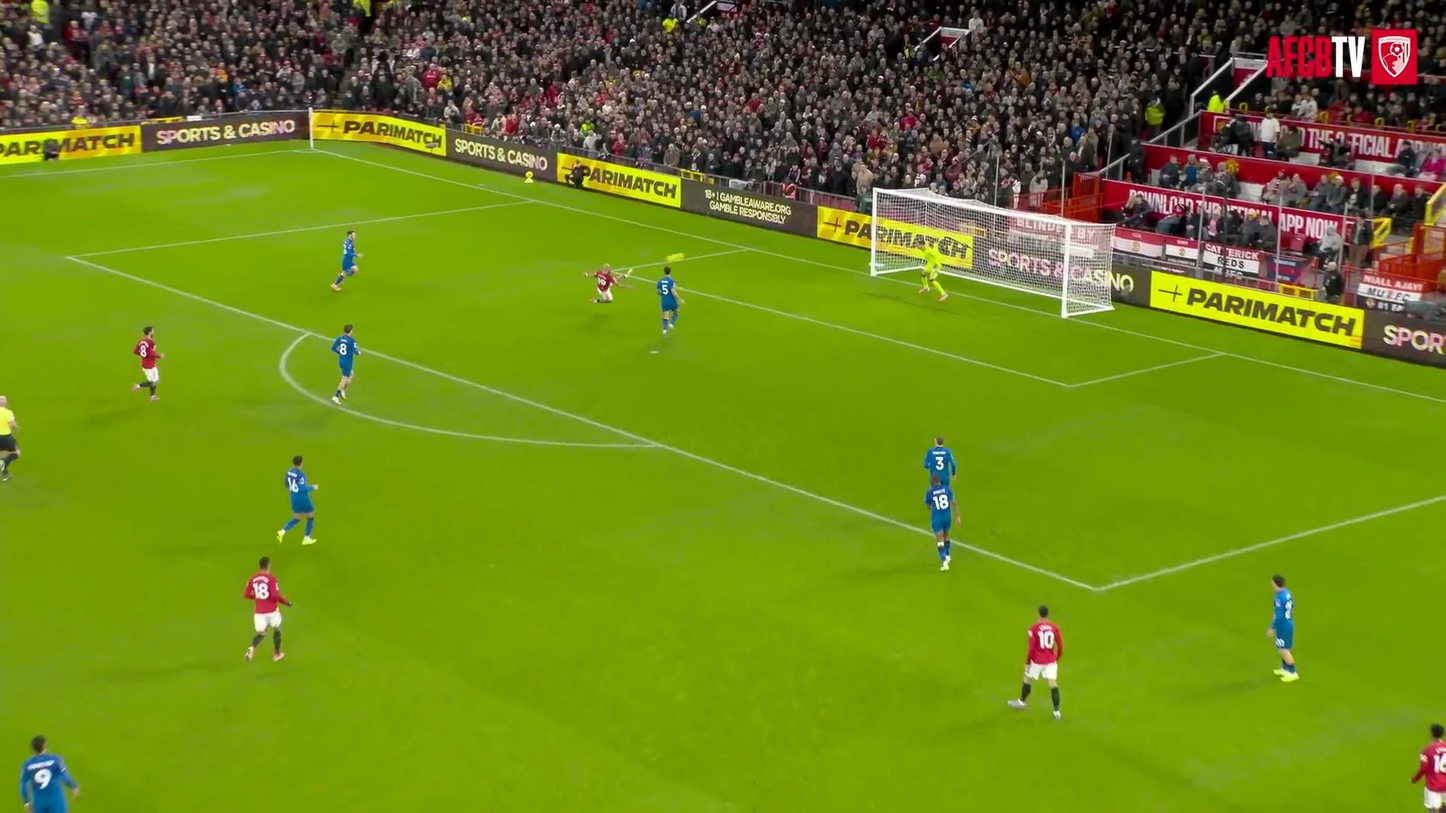football: (664, 251, 687, 266)
player: (1008, 605, 1062, 719), (244, 556, 291, 660), (20, 736, 79, 812), (277, 455, 319, 544), (925, 476, 959, 571), (1268, 574, 1298, 681), (1411, 723, 1445, 812), (132, 327, 163, 400), (331, 325, 359, 404), (331, 230, 362, 291), (656, 266, 682, 336), (584, 264, 627, 303), (924, 437, 956, 485), (920, 245, 947, 301)
referee: (0, 396, 20, 480)
